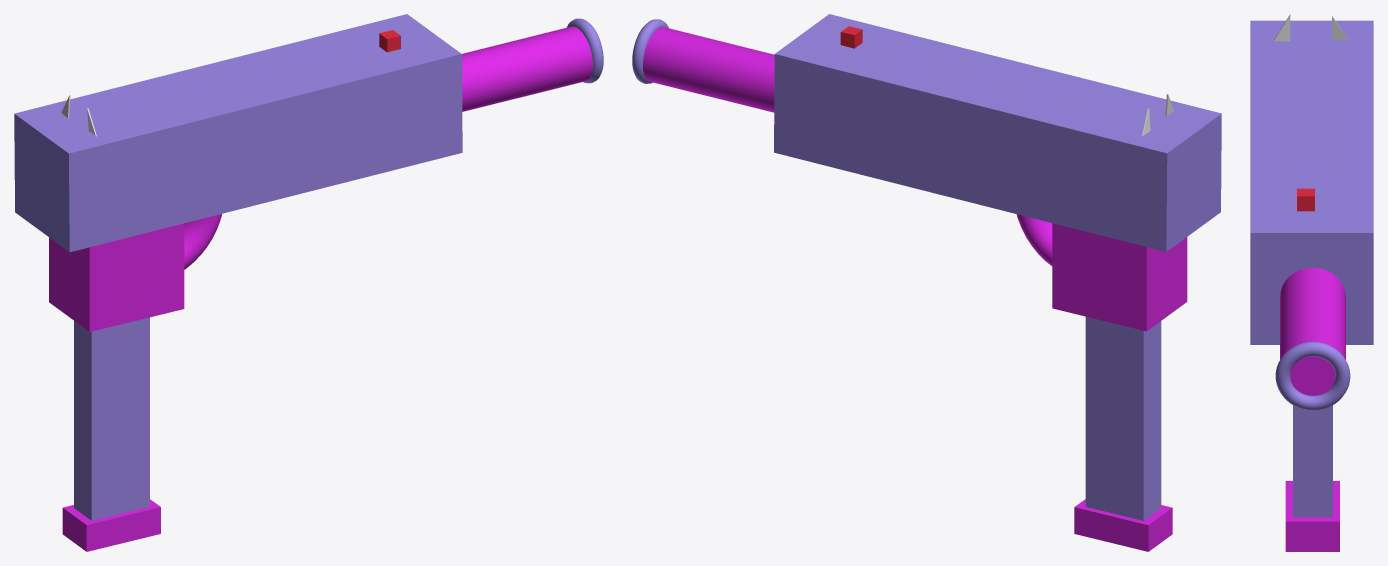
Rendered from uziThingycolor.fbx.
3 views of the same model, side by side, from view 1: azimuth 30°, elevation 25°; view 2: azimuth 150°, elevation 25°; view 3: azimuth 270°, elevation 25° (orthographic). The views are drawn at different scales.
Visible parts, largest first — view 1: Cube.001, Cube, Cube.002, Cylinder, Cube.004, Torus.001, Torus; view 2: Cube.001, Cube, Cube.002, Cylinder, Cube.004, Torus.001, Torus; view 3: Cube.001, Cylinder, Cube, Torus, Cube.004, Cube.003, Circle.002, Circle.001.
Part boxes in pixels (left/top/right/bottom): Cube.001: left=14, top=14, right=462, bottom=252; Cube: left=74, top=317, right=149, bottom=520; Cube.002: left=49, top=223, right=184, bottom=331; Cylinder: left=461, top=26, right=592, bottom=111; Cube.004: left=62, top=499, right=160, bottom=551; Torus.001: left=184, top=214, right=222, bottom=269; Torus: left=567, top=18, right=603, bottom=83; Cube.001: left=774, top=14, right=1221, bottom=251; Cube: left=1085, top=316, right=1161, bottom=520; Cube.002: left=1052, top=223, right=1187, bottom=331; Cylinder: left=643, top=27, right=774, bottom=112; Cube.004: left=1074, top=499, right=1172, bottom=551; Torus.001: left=1016, top=214, right=1052, bottom=265; Torus: left=632, top=19, right=668, bottom=83; Cube.001: left=1250, top=20, right=1373, bottom=344; Cylinder: left=1280, top=268, right=1345, bottom=395; Cube: left=1293, top=405, right=1332, bottom=517; Torus: left=1275, top=341, right=1350, bottom=410; Cube.004: left=1285, top=481, right=1339, bottom=551; Cube.003: left=1297, top=188, right=1314, bottom=211; Circle.002: left=1273, top=14, right=1290, bottom=41; Circle.001: left=1332, top=16, right=1347, bottom=40.
Bounding box in the file's own units: 1159 × 892 × 200.
